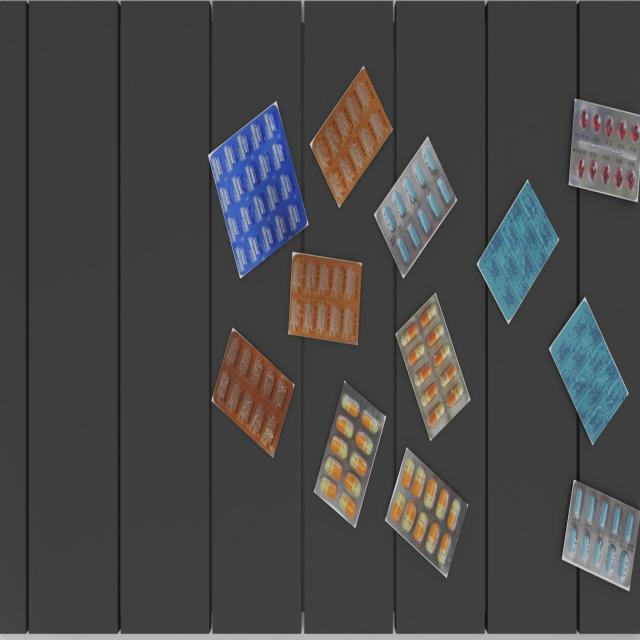blister: (207, 107, 306, 275), (308, 58, 392, 210), (479, 175, 559, 323), (375, 135, 457, 276), (385, 444, 470, 578), (552, 297, 628, 446), (210, 327, 294, 461), (313, 376, 385, 529), (396, 292, 468, 443), (563, 477, 639, 588), (568, 94, 640, 202), (287, 250, 362, 345)
